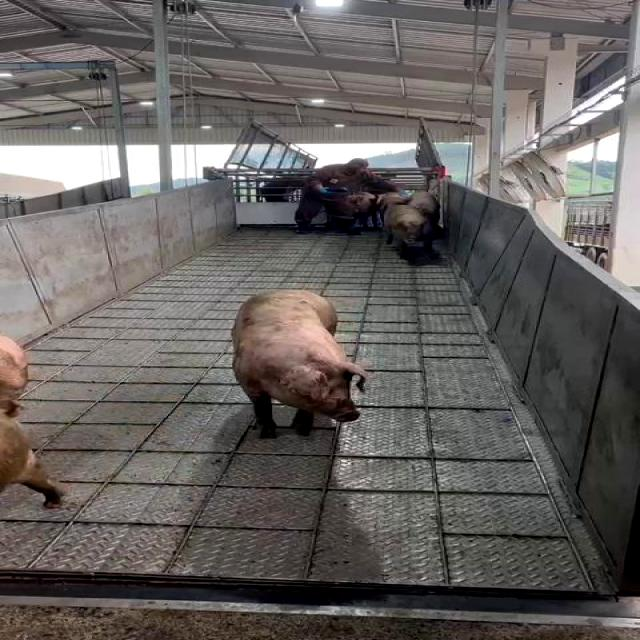pig: (233, 291, 368, 436), (1, 415, 65, 507), (1, 335, 27, 414)
